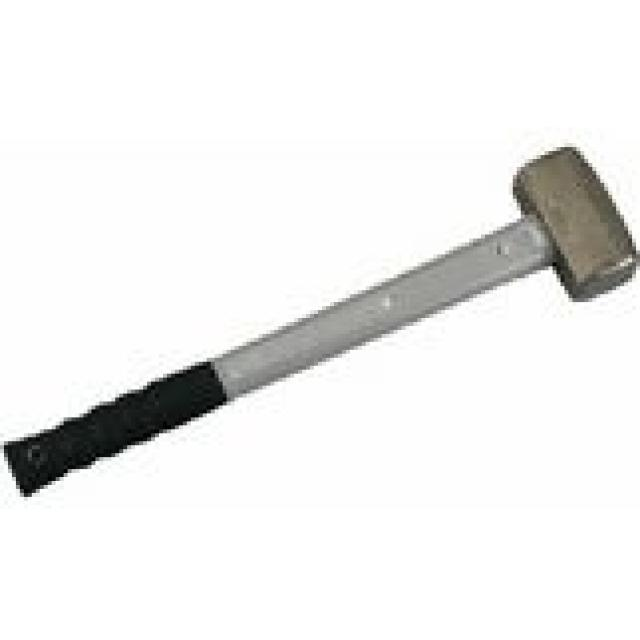hammer: (0, 138, 640, 516)
